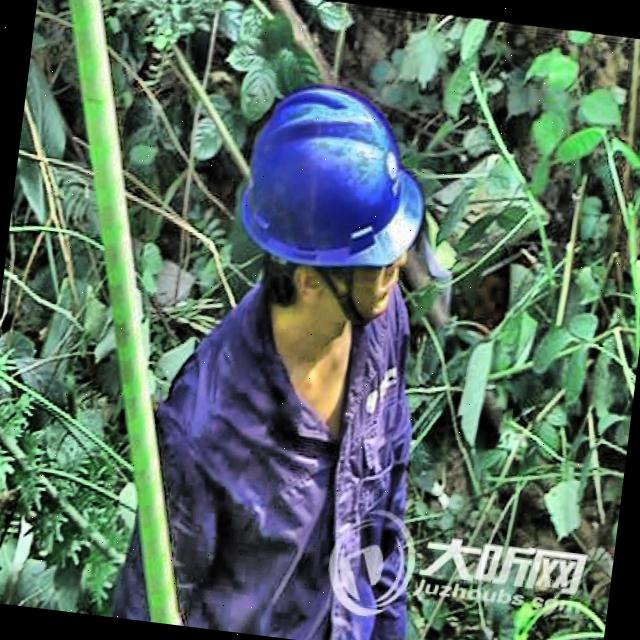helmet: (211, 52, 443, 370)
